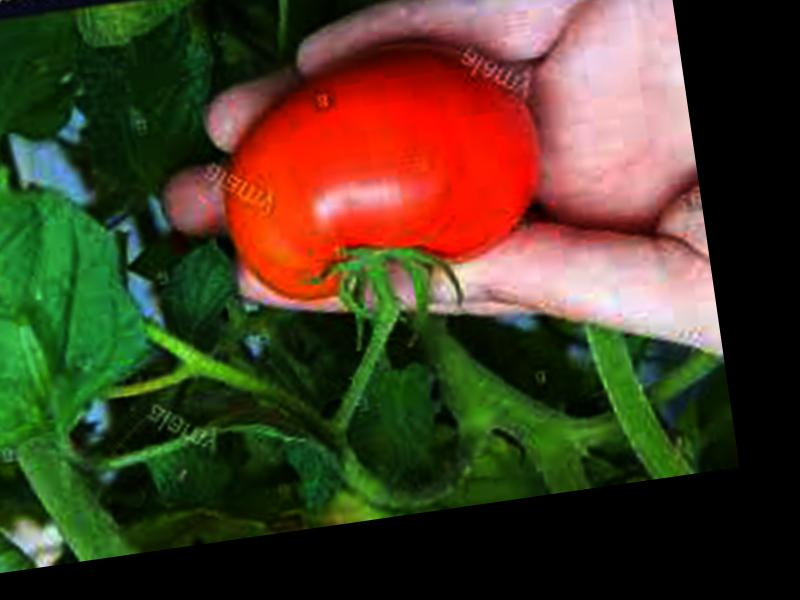Tomato: (207, 34, 558, 309)
